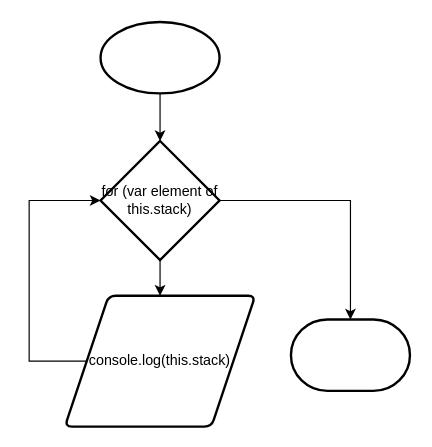
Some shapes in this 432 by 447 pixel diagram are drawn without their labels. Each missing label, with the centre of its shape:
"start" goes at point 159,57.
"stop" goes at point 350,355.
